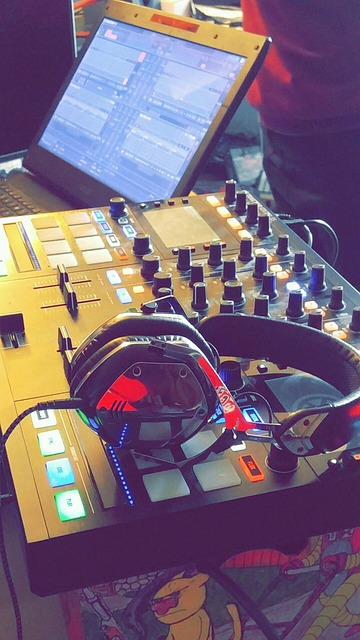headphones: (69, 297, 360, 470)
